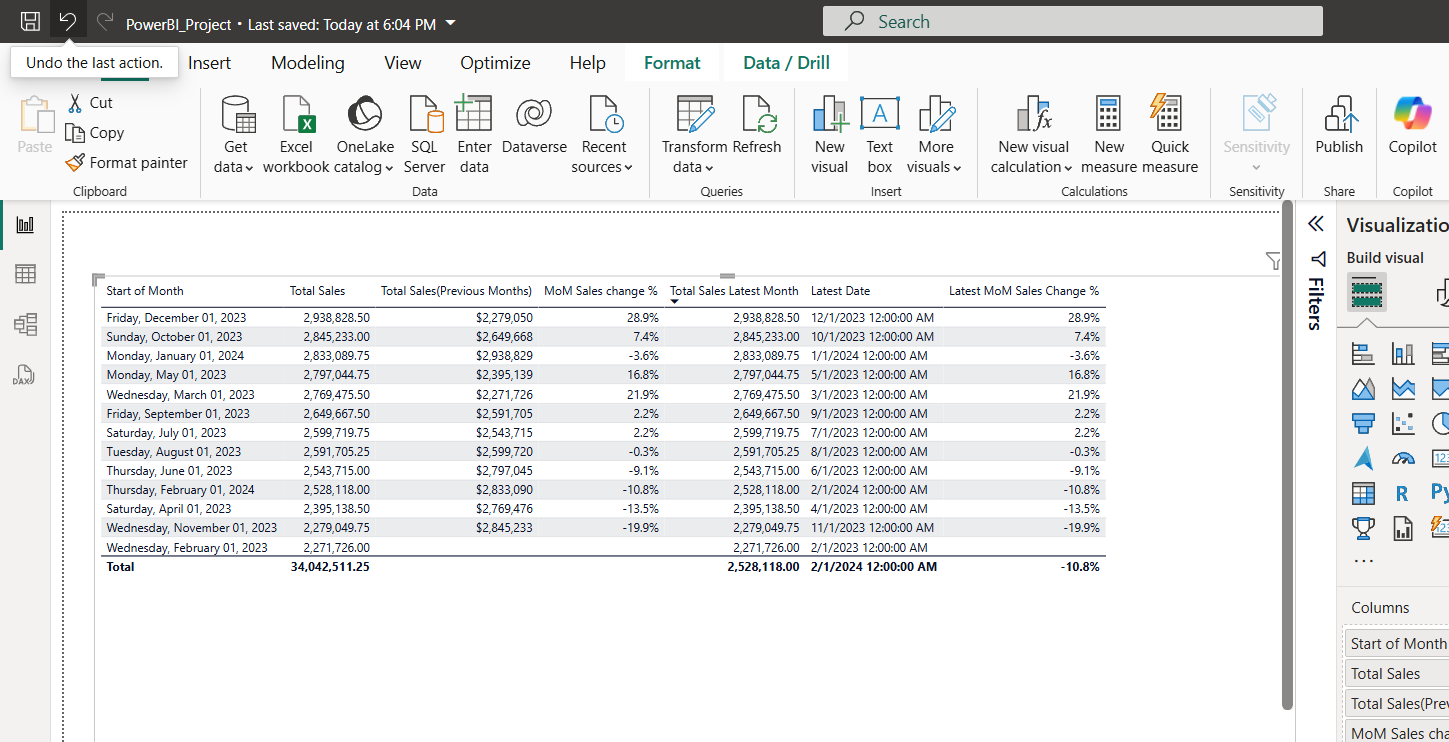

What the dashboard file says about the page in this screenshot:
{"tool":"powerbi","page":{"name":"Page 2","canvas":[1920,1080],"ordinal":1},"visuals":[{"type":"tableEx","fields":{"Values":["calendar.Start of Month","Measure.Total Sales","Measure.Total Sales(Previous Months)","Measure.MoM Sales change %","calendar.Total Sales Latest Month","calendar.Latest Date","Measure.Latest MoM Sales Change %"]},"box":[26.7,55.6,1126.7,851.1],"z":0}]}

Visuals, with their boxes on the page's 1920x1080 design canvas (x1, y1, x2, y2). These are canvas units, not pixel positions in the 1449x742 screenshot, which may show the page scaled, cropped or inside an application window:
tableEx - calendar.Start of Month x Measure.Total Sales: bbox=(27, 56, 1153, 907)
